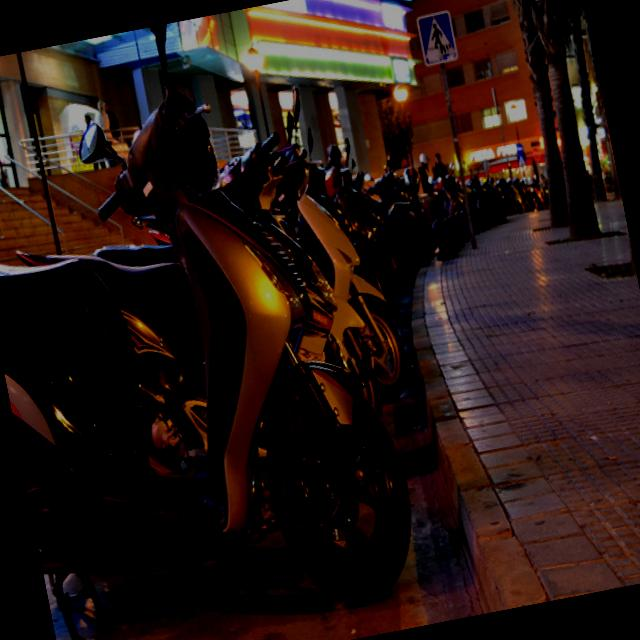Vehicle: (0, 0, 431, 640), (4, 125, 365, 508), (263, 151, 412, 418), (316, 137, 401, 316), (334, 130, 414, 292), (312, 277, 383, 425), (352, 150, 430, 274), (389, 162, 436, 260), (416, 172, 464, 224), (520, 177, 551, 213), (464, 173, 494, 209), (493, 176, 517, 216), (481, 177, 503, 205)
